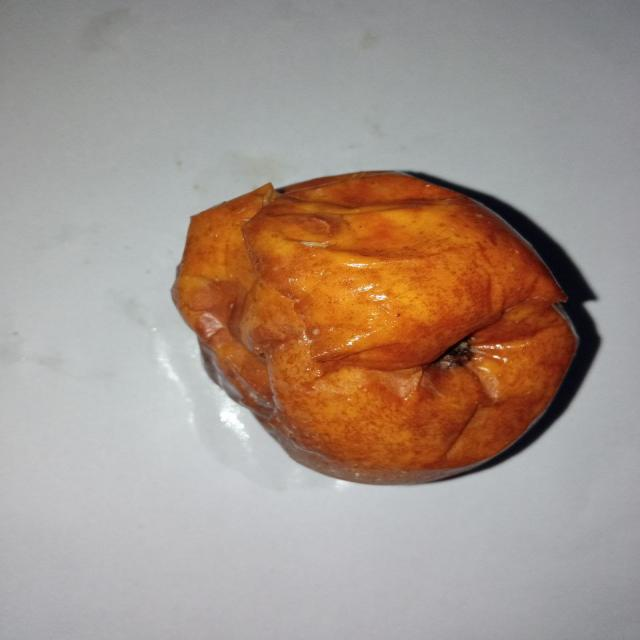rotten_apple: (171, 170, 576, 480)
